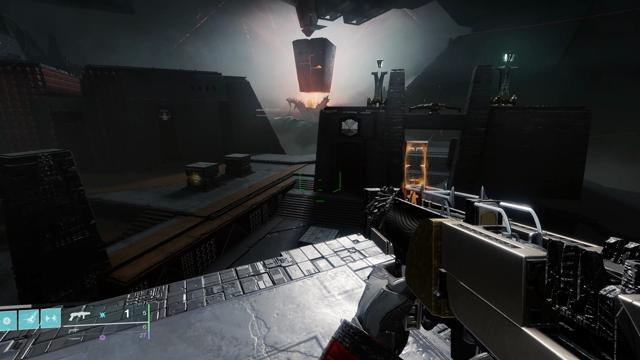commune: (341, 119, 358, 136)
drink: (158, 108, 172, 120)
